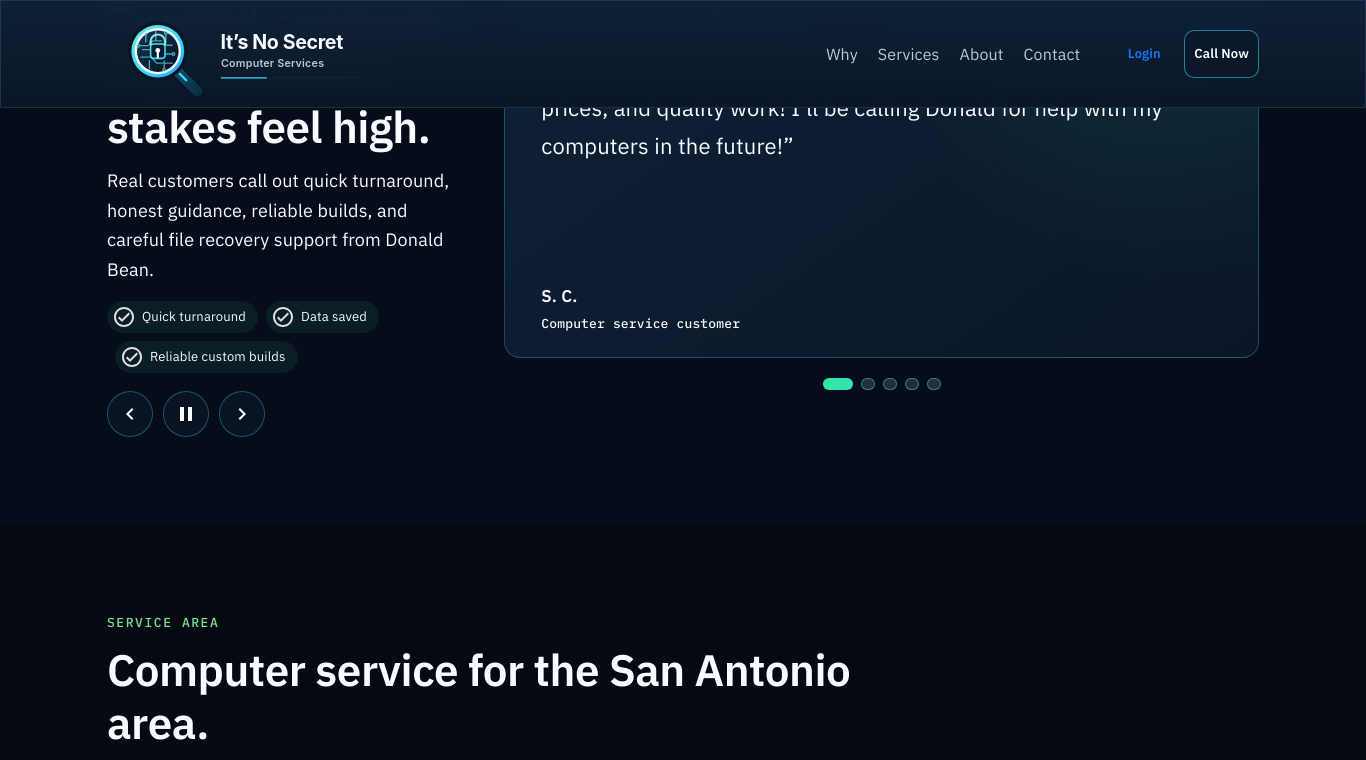
Test: It’s No Secret marketing site › keeps the long Mauro Perez review readable with inline expansion that reveals the full story
(page scrolled)
Click the button named "show testimonial from mauro perez": (912, 384) [905, 378, 919, 390]
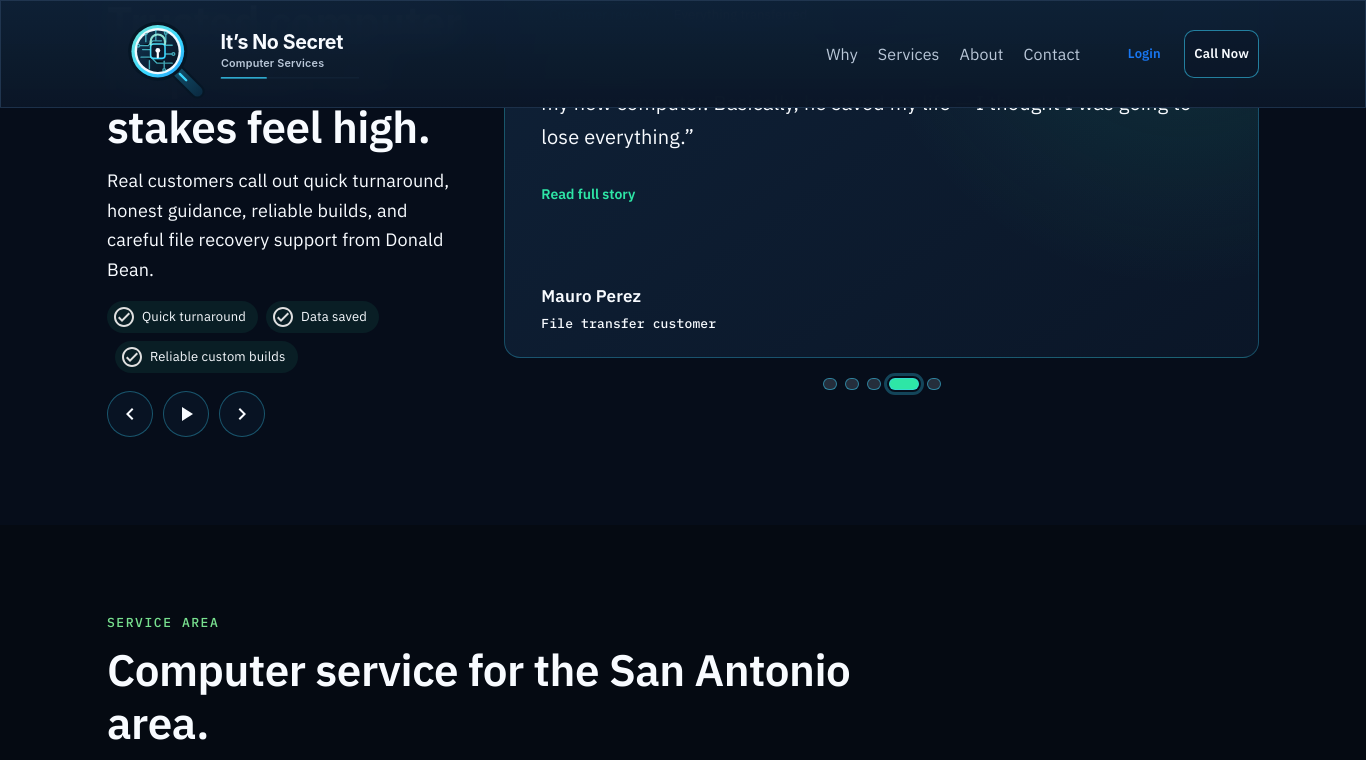
Expected: the text "I went with a broken laptop, scared I was going to lose everything" is not shown
Expected: the text "Donald got all my old files from my old computer" is shown, [541, 54, 1195, 150]
Click the button with aria-label "read full story from mauro perez": (588, 194) [541, 170, 635, 218]
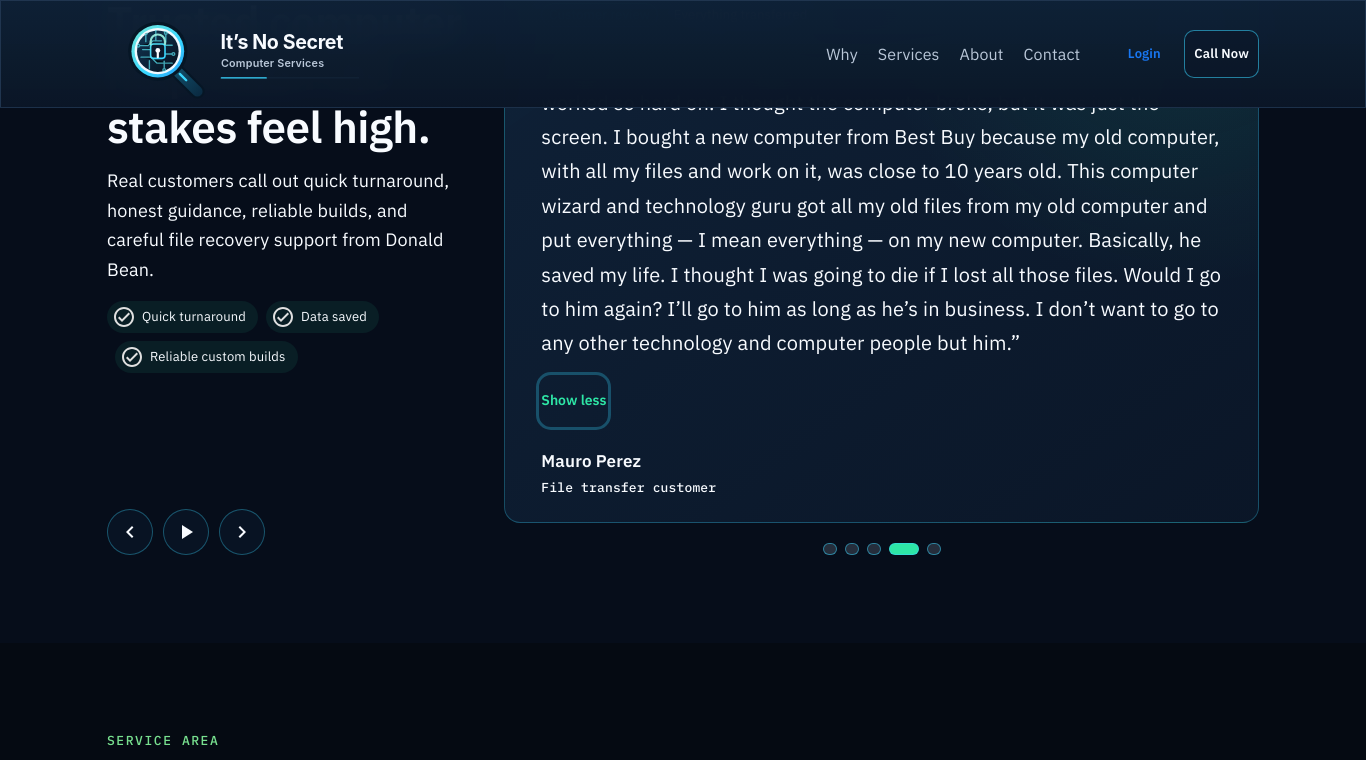
Expected: the text "I went with a broken laptop, scared I was going to lose everything" is shown, [541, 54, 1221, 356]
Expected: the button with aria-label "show less from mauro perez" is shown, [541, 377, 606, 425]
